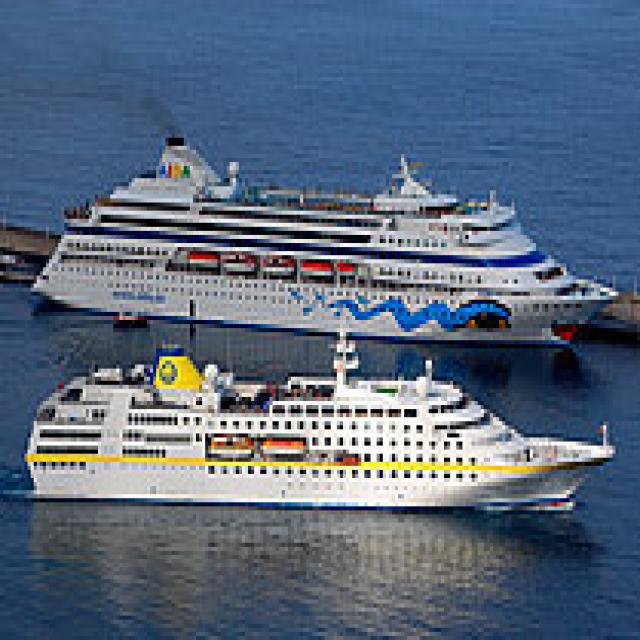Ship: (22, 115, 629, 354), (13, 313, 629, 532)
